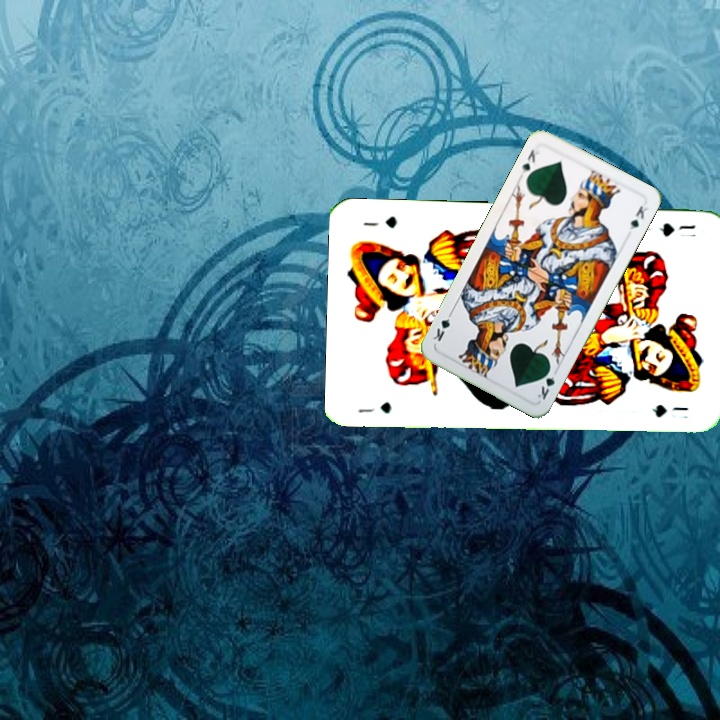GK: (533, 363, 558, 402), (517, 145, 542, 177)
GU: (655, 219, 698, 239), (354, 398, 394, 416)
